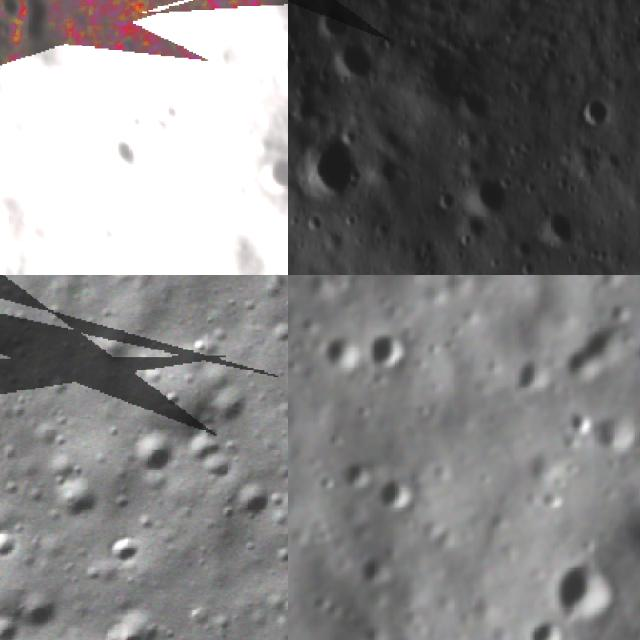crater: (555, 322, 629, 394), (542, 554, 622, 620), (30, 464, 105, 530), (118, 424, 183, 486), (302, 126, 353, 202), (13, 0, 67, 49), (96, 530, 144, 581), (514, 350, 560, 403), (232, 476, 283, 523), (100, 602, 162, 640), (320, 332, 367, 381), (375, 471, 419, 522), (593, 411, 640, 457), (368, 328, 413, 373), (332, 45, 377, 88), (105, 134, 142, 186), (470, 172, 512, 215), (358, 552, 396, 594), (250, 152, 288, 193), (341, 454, 379, 494), (541, 209, 580, 247), (565, 403, 602, 440), (574, 95, 618, 126), (527, 613, 576, 640), (310, 9, 350, 35), (156, 382, 188, 413), (0, 527, 22, 565), (0, 0, 29, 28), (430, 183, 456, 214), (0, 609, 26, 640), (273, 49, 288, 92), (0, 70, 14, 110)
